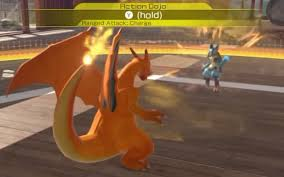charizard: (16, 24, 165, 174)
